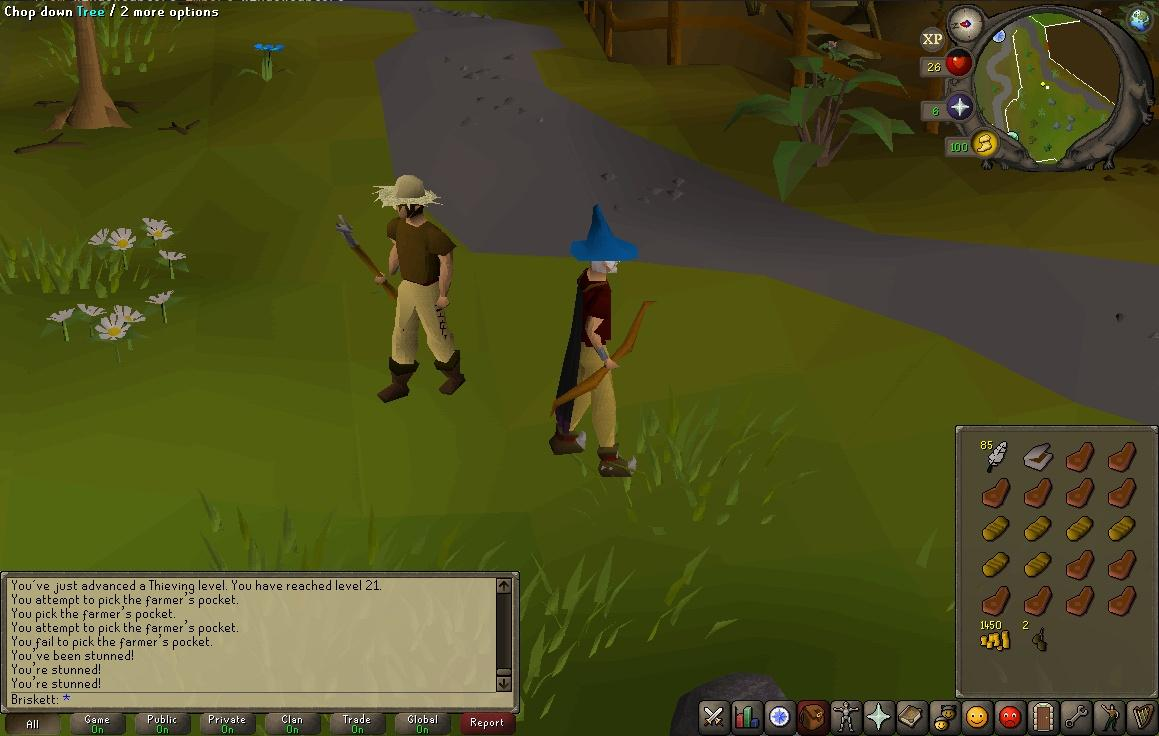Farmer: (372, 174, 467, 404)
